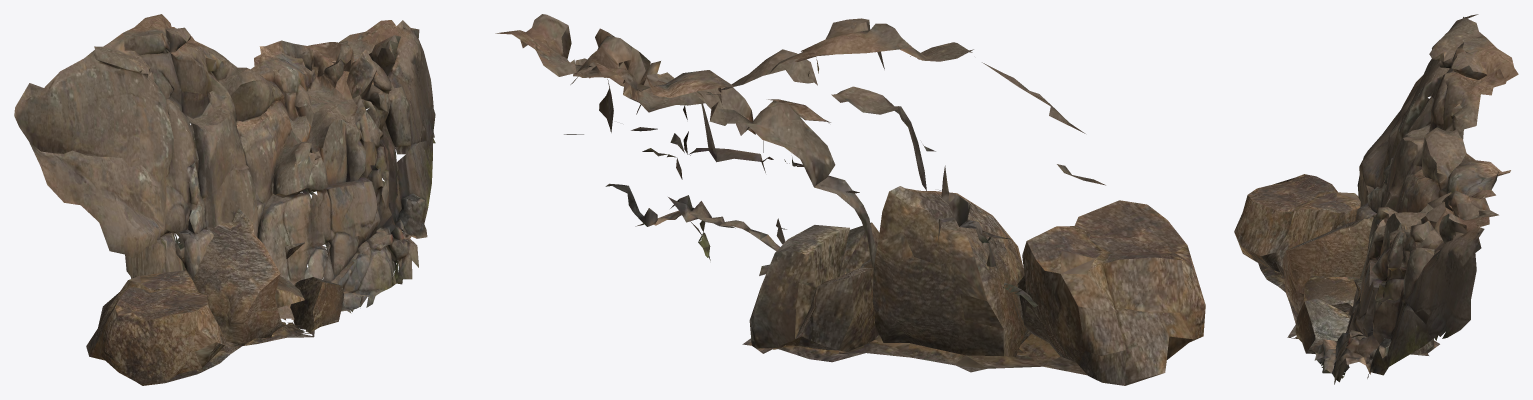
The model's file is b12_rock_outcrop_c.glb.
3 renders of one model, left to right at view 1: azimuth 30°, elevation 25°; view 2: azimuth 150°, elevation 25°; view 3: azimuth 270°, elevation 25°, orthographic. The views are drawn at different scales.
Parts seen in each view (by area): view 1: geometry_0; view 2: geometry_0; view 3: geometry_0.
Part boxes in pixels (x1,y1,x2,y2): geometry_0: [14, 14, 435, 385]; geometry_0: [495, 14, 1205, 385]; geometry_0: [1234, 14, 1518, 384].
Bounding box in the file's own units: 1 × 0.5823 × 0.582.
Materials: 1 (1 with a texture image).
